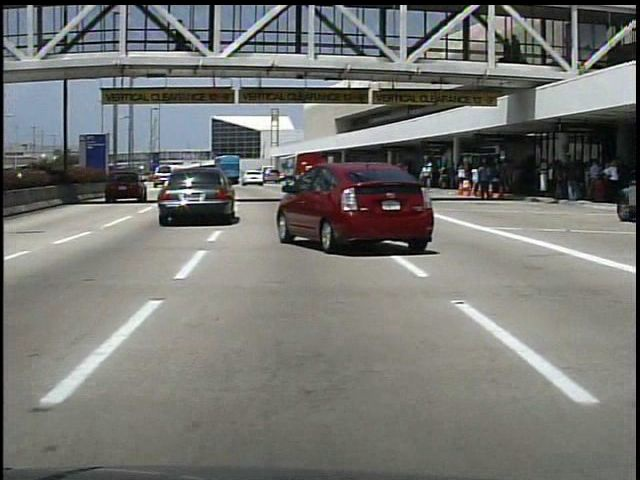person: (477, 160, 494, 206), (173, 24, 189, 56)
